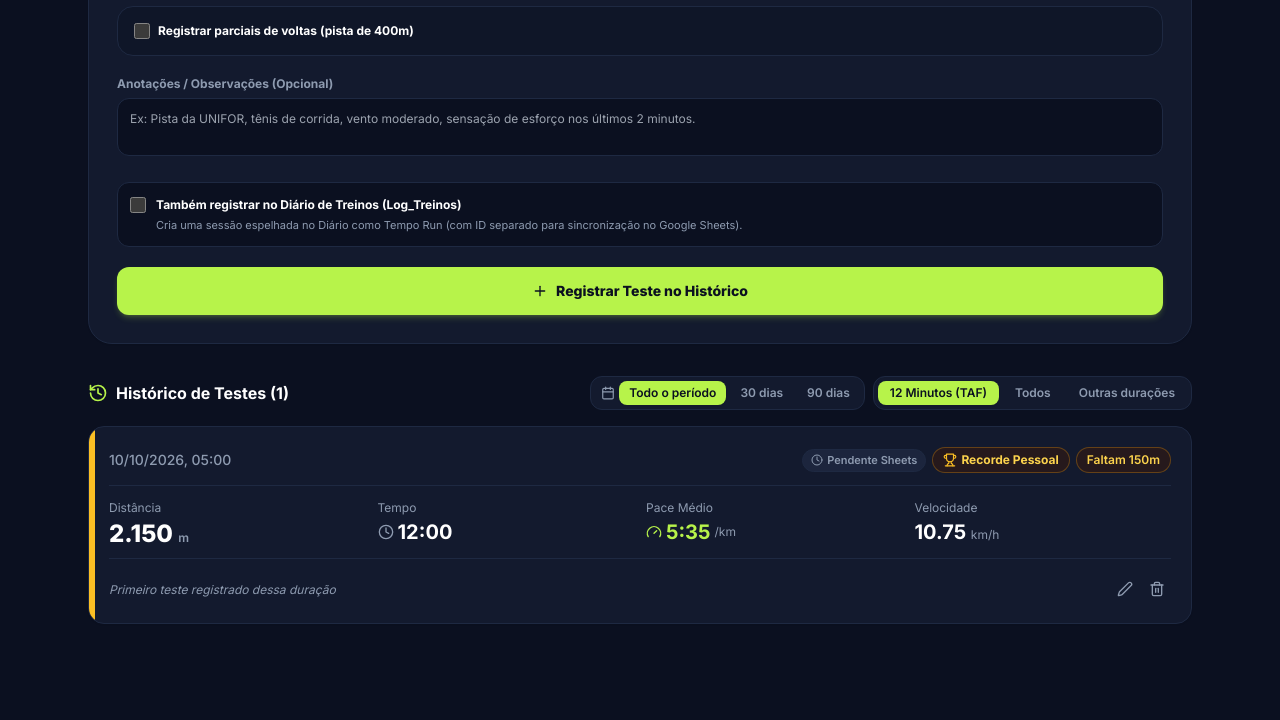
Test case: MeuTafPage - Fase C (Histórico de 12 Minutos e Interface do TAF) › permite excluir um teste com diálogo de confirmação e atualiza a contagem
Later steps or results of the test are not shown.
(page scrolled)
expect the text "2.150" is shown: met, box top-left (109, 519), bottom-right (173, 548)
// Clica no botão de excluir
Click the button titled "Excluir teste" at (1157, 589), box top-left (1143, 575), bottom-right (1171, 603)
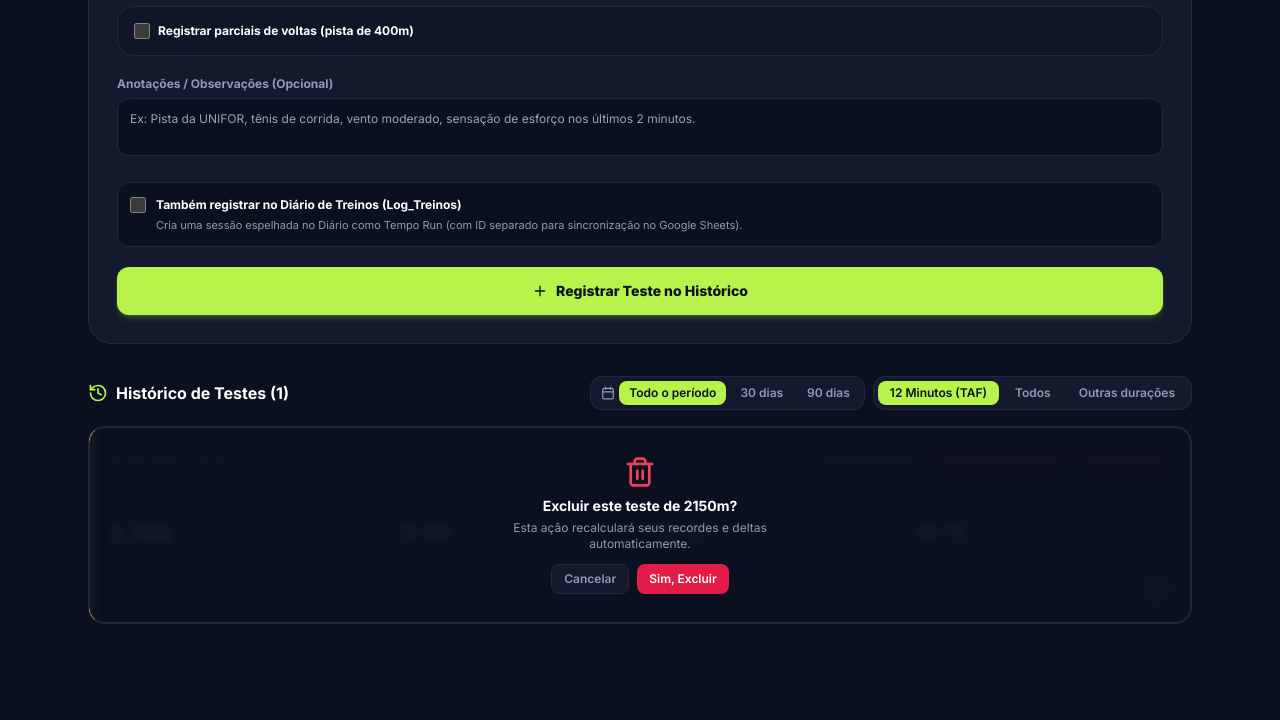
expect the text "Excluir este teste de 2150m?" is shown: met, box top-left (543, 496), bottom-right (737, 516)
